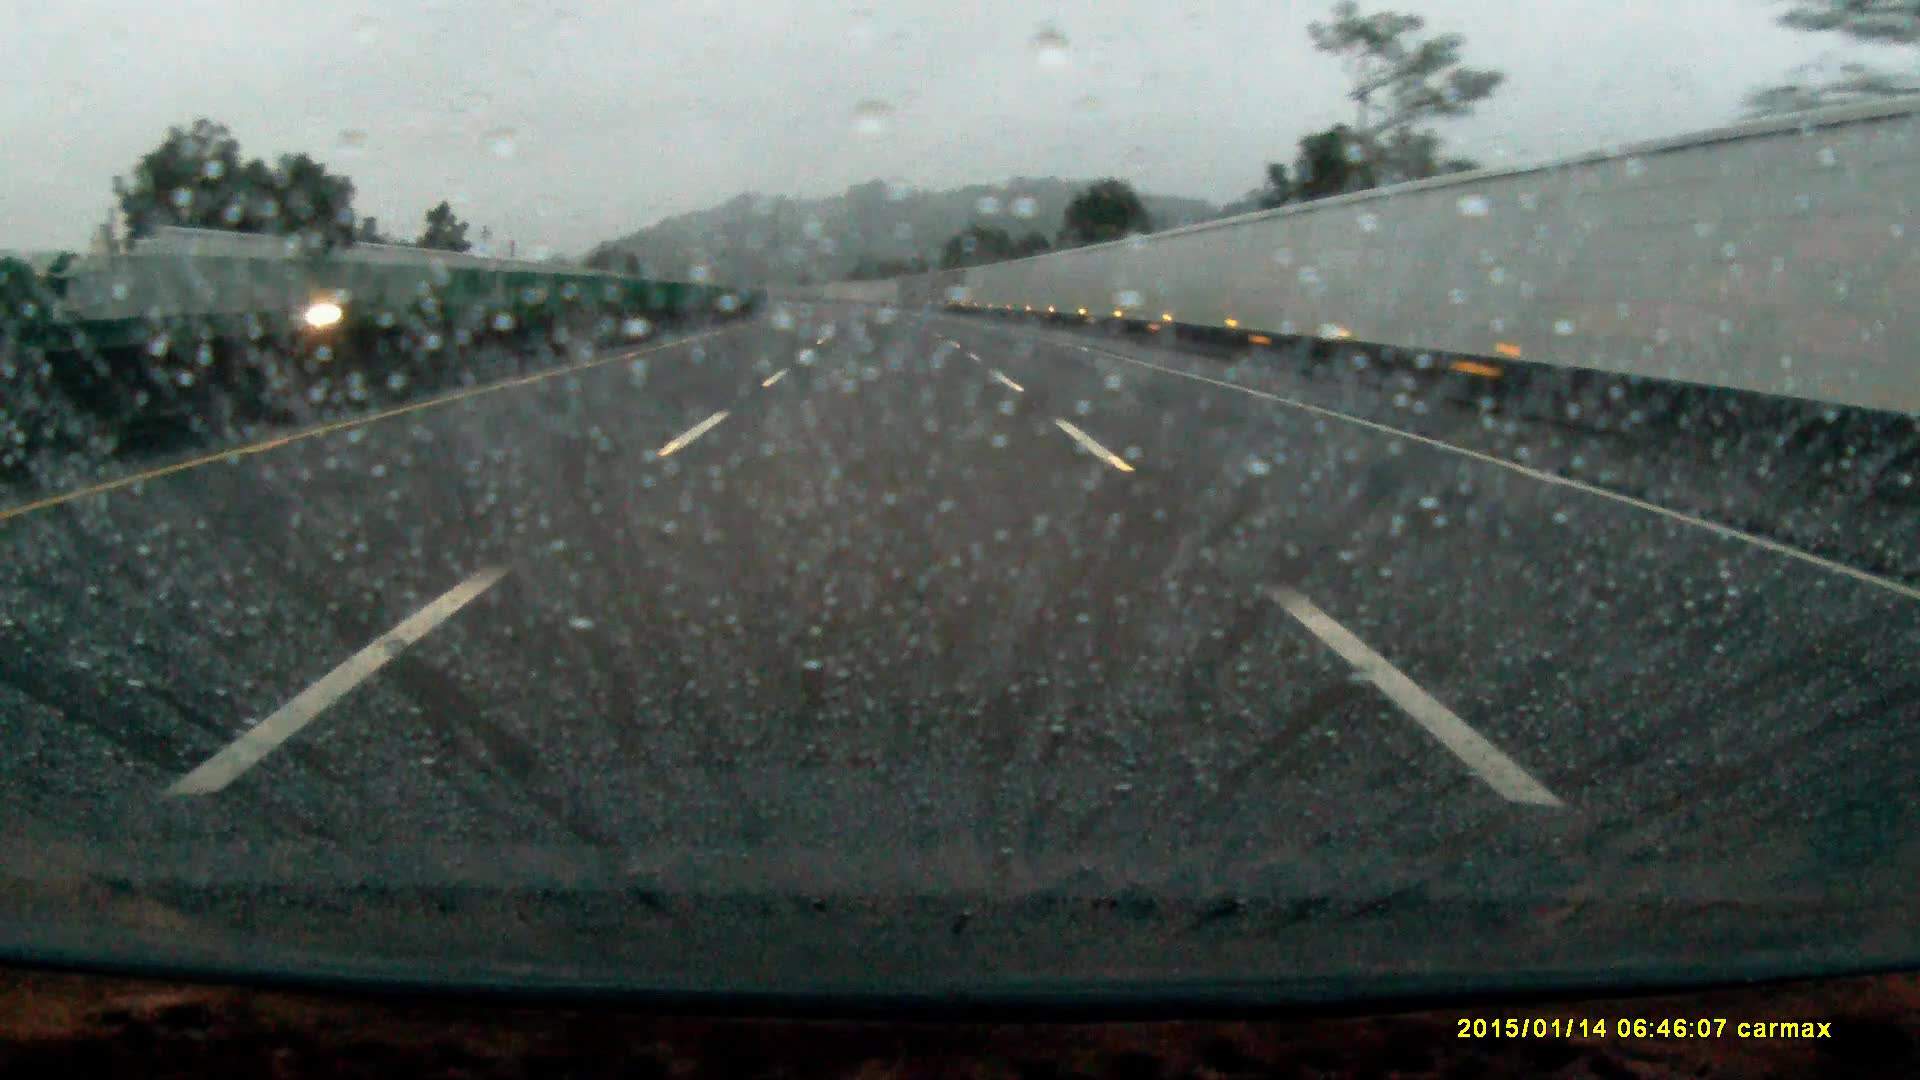vehicle: (266, 290, 377, 338)
